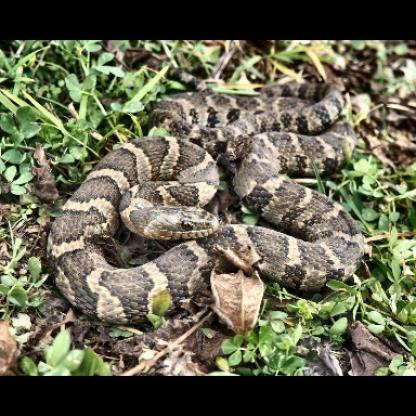Snake: (44, 67, 373, 328)
